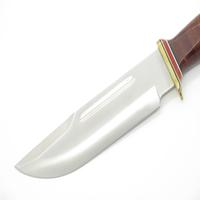knife: (13, 28, 200, 185)
